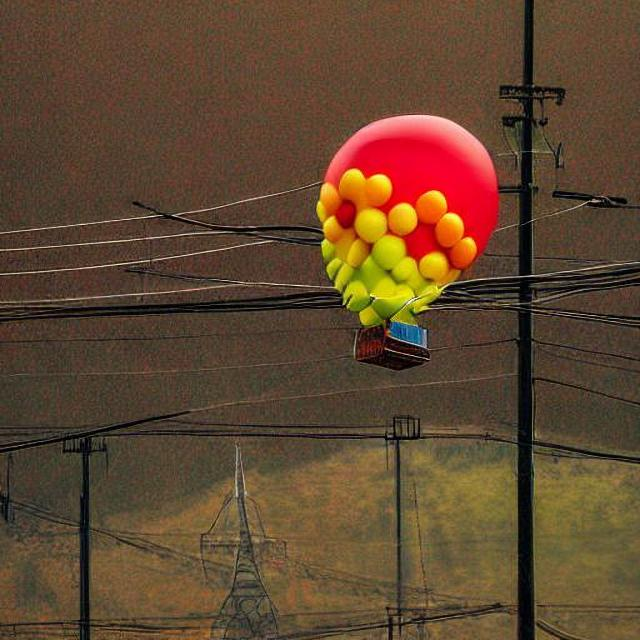balloon: (308, 111, 497, 323)
